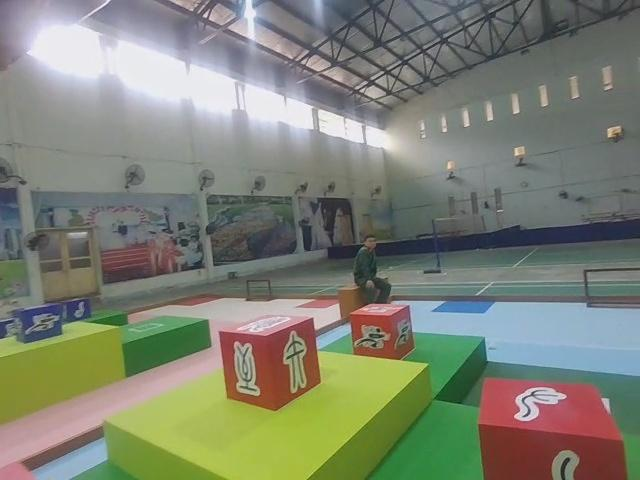R1: (346, 299, 418, 363)
R2 Fake: (216, 309, 326, 415)
R2 Real: (475, 373, 630, 480)
